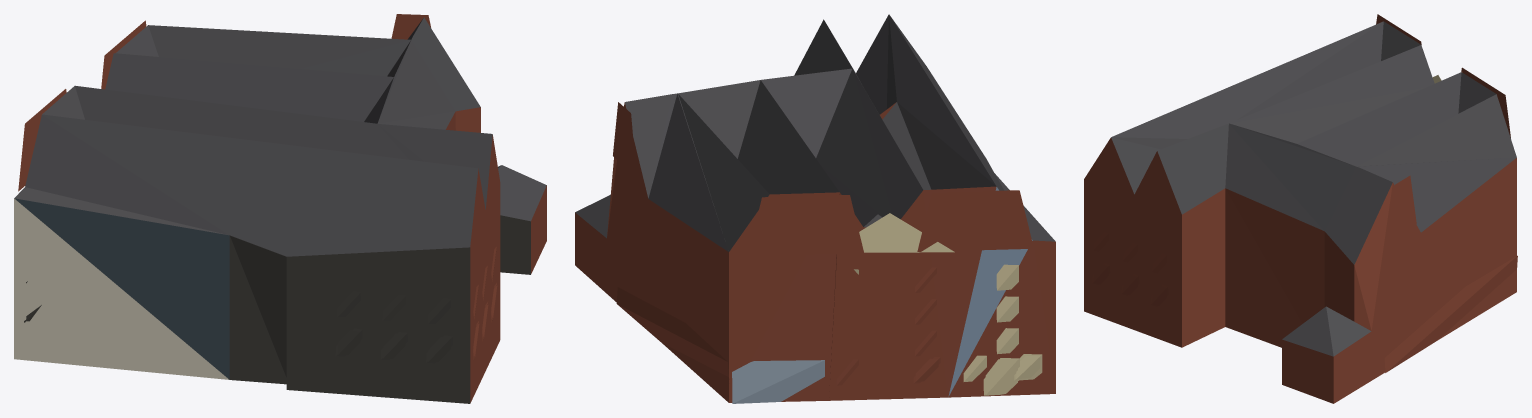
The model's file is west-indisch-pakhuis.lod2.glb.
The picture shows the model from 3 angles, left to right: view 1: azimuth 30°, elevation 25°; view 2: azimuth 150°, elevation 25°; view 3: azimuth 270°, elevation 25°; orthographic projection. The views are drawn at different scales.
Visible parts, largest first — view 1: lod2; view 2: lod2; view 3: lod2.
Part boxes in pixels (box(x1,y1,x2,y2)): lod2: box(14, 14, 546, 403); lod2: box(575, 14, 1055, 403); lod2: box(1084, 14, 1517, 403).
Bounding box in the file's own units: 47.15 × 19.27 × 40.28.
